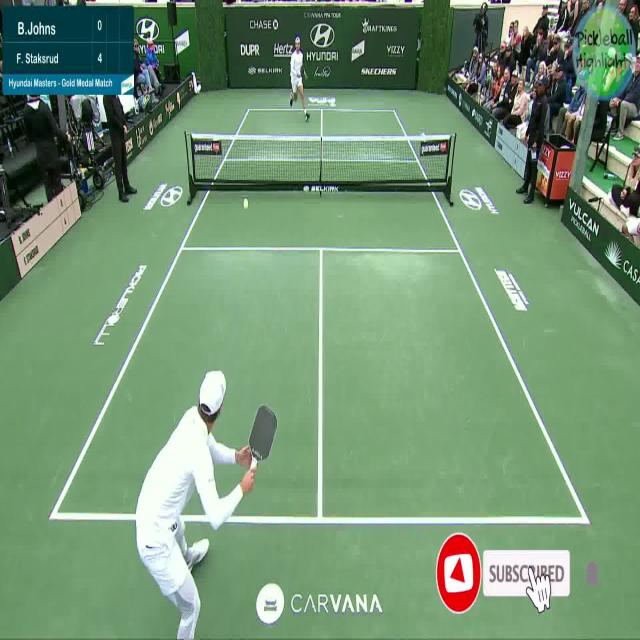Court: (54, 111, 588, 522)
ball: (240, 196, 253, 214)
